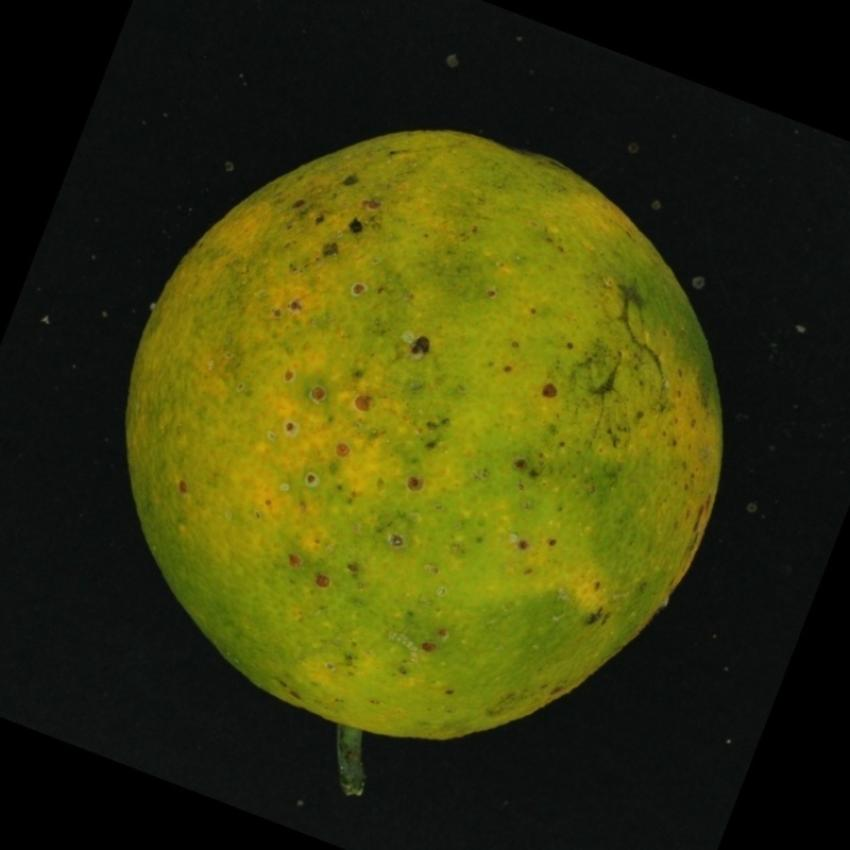Mal estado: (89, 114, 763, 744)
